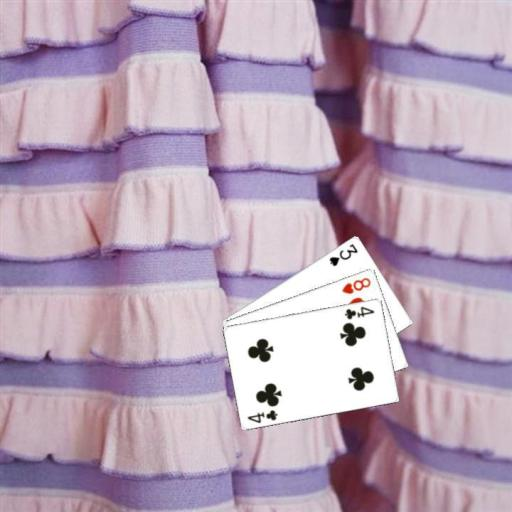3S: (327, 241, 359, 268)
4C: (244, 406, 279, 425), (342, 303, 376, 321)
8H: (338, 274, 372, 295)
